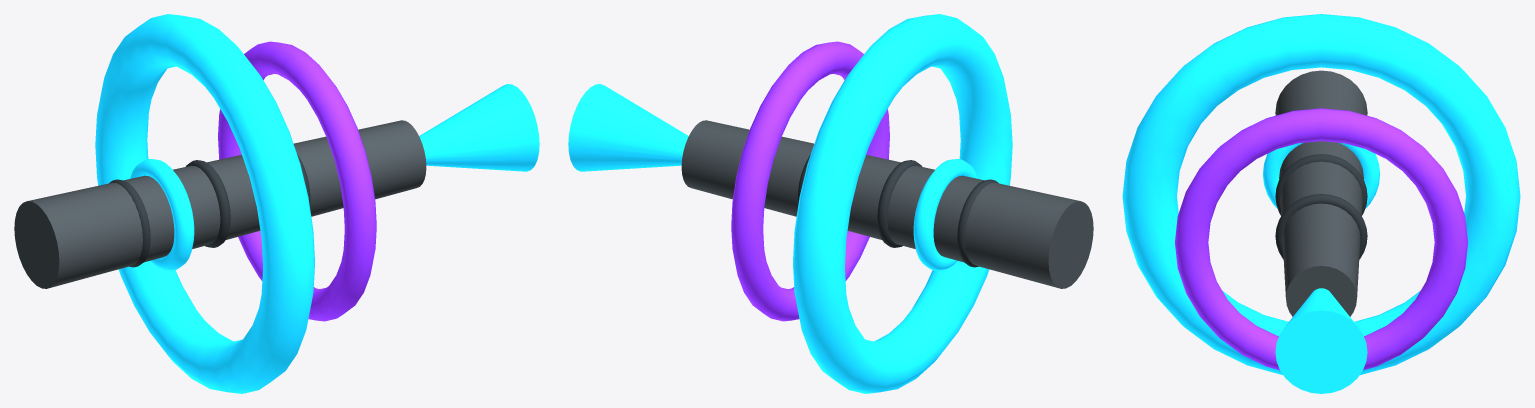
Rendered from shot.glb.
3 views of the same model, side by side, from view 1: azimuth 30°, elevation 25°; view 2: azimuth 150°, elevation 25°; view 3: azimuth 270°, elevation 25° (orthographic). The views are drawn at different scales.
Bounding box in the file's own units: 2.71 × 1.9 × 1.9.
